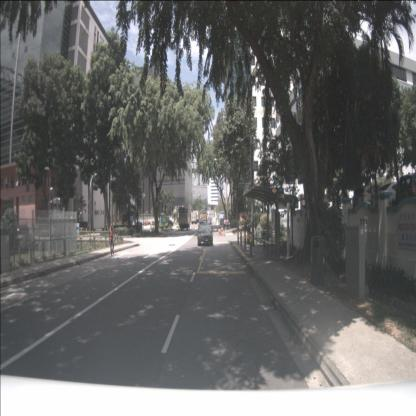human-pedestrian-adult: (108, 223, 115, 256), (223, 219, 226, 231), (225, 219, 227, 230), (227, 219, 229, 230)
vehicle-bus-rigid: (202, 210, 207, 222)
vehicle-car: (197, 224, 213, 246), (13, 224, 30, 235), (198, 219, 208, 234), (207, 217, 212, 225)
vehicle-truck: (179, 207, 190, 230), (192, 210, 200, 223), (191, 212, 197, 224)
